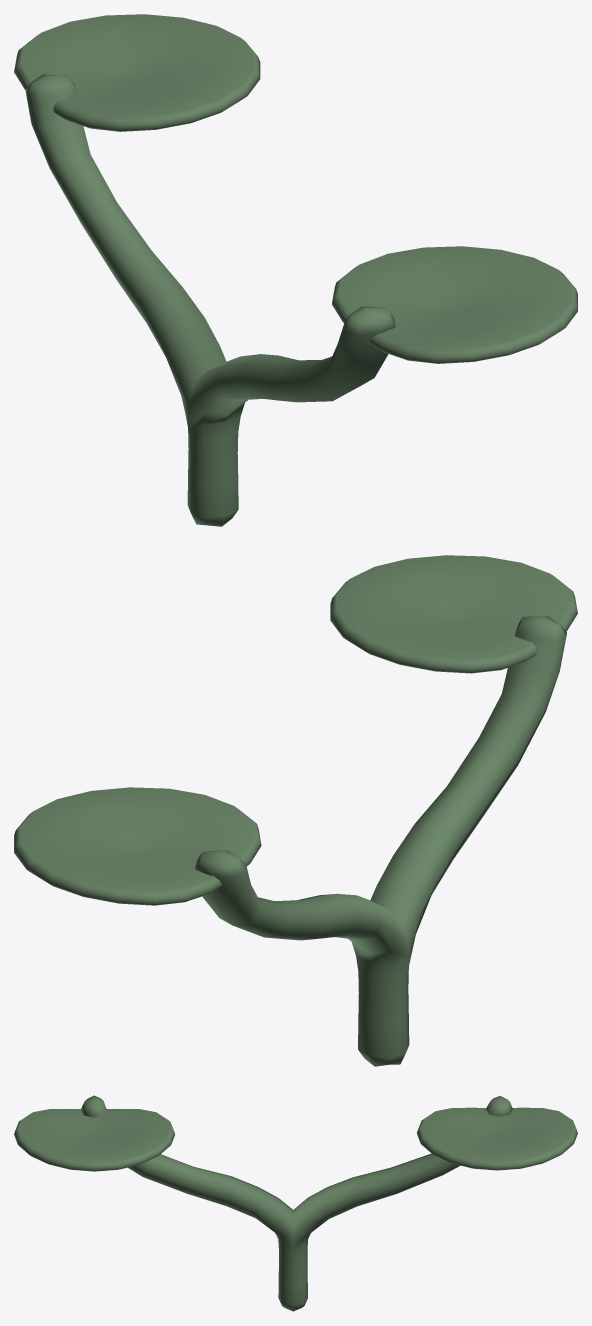
The model's file is PlantGrowingStatic.fbx.
The picture shows the model from 3 angles, top to bottom: view 1: azimuth 30°, elevation 25°; view 2: azimuth 150°, elevation 25°; view 3: azimuth 270°, elevation 25°; orthographic projection. The views are drawn at different scales.
Visible parts, largest first — view 1: PlantGrowing3, PlantGrowing2, PlantGrowing1; view 2: PlantGrowing3, PlantGrowing2, PlantGrowing1; view 3: PlantGrowing3, PlantGrowing2, PlantGrowing1.
Part boxes in pixels (x1,y1,x2,y2): PlantGrowing3: (25,74,395,526); PlantGrowing2: (14,14,260,131); PlantGrowing1: (332,246,577,363); PlantGrowing3: (195,616,566,1066); PlantGrowing2: (14,787,261,905); PlantGrowing1: (330,555,577,673); PlantGrowing3: (80,1095,512,1311); PlantGrowing2: (417,1107,577,1170); PlantGrowing1: (14,1108,174,1171).
Bounding box in the file's own units: 2.31 × 3.31 × 8.04.
